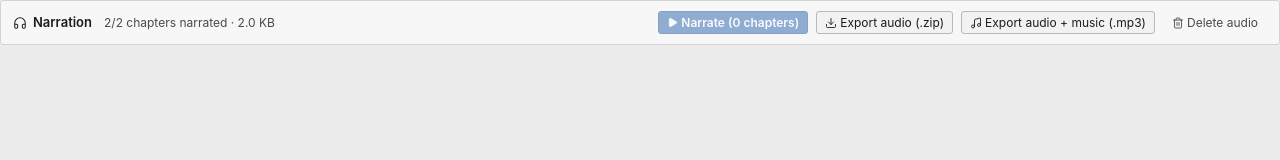
Test: NarrationPanel export › joins the whole story into one MP3, naming the music used
Click the button "Export audio + music (.mp3)": point(1058, 23) [961,11,1155,34]
Wait 1500 ms
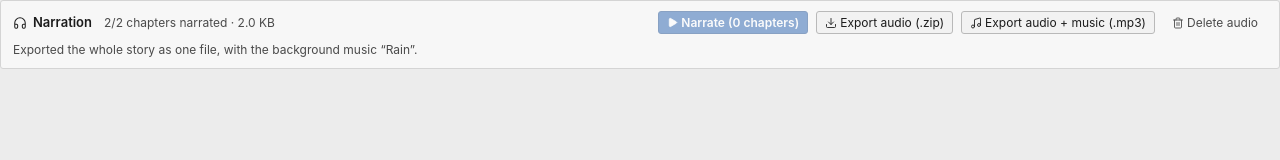
Expected: the text "Exported the whole story as one file, with the background music “Rain”." is shown, [13,42,417,57]
